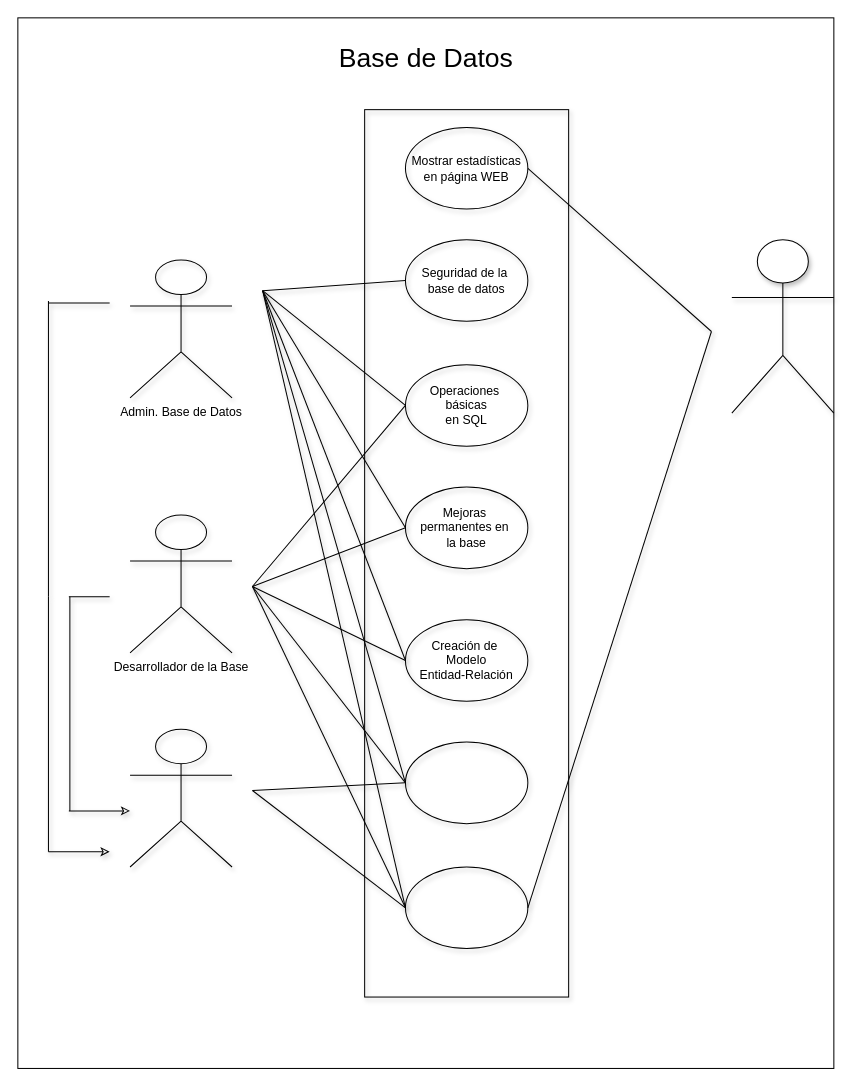
The diagram is 858 pixels wide and 1086 high, and some of its shapes have lost their labels. Here are the shapes that lost their labels. From the top down, the centre of each, then its label:
At point (783, 327): "Servidor Web".
At point (181, 799): "Jugador".
At point (467, 784): "Sistema para guardar los datos del jugador".
At point (467, 909): "Sistema para mostrar estadísticas".
